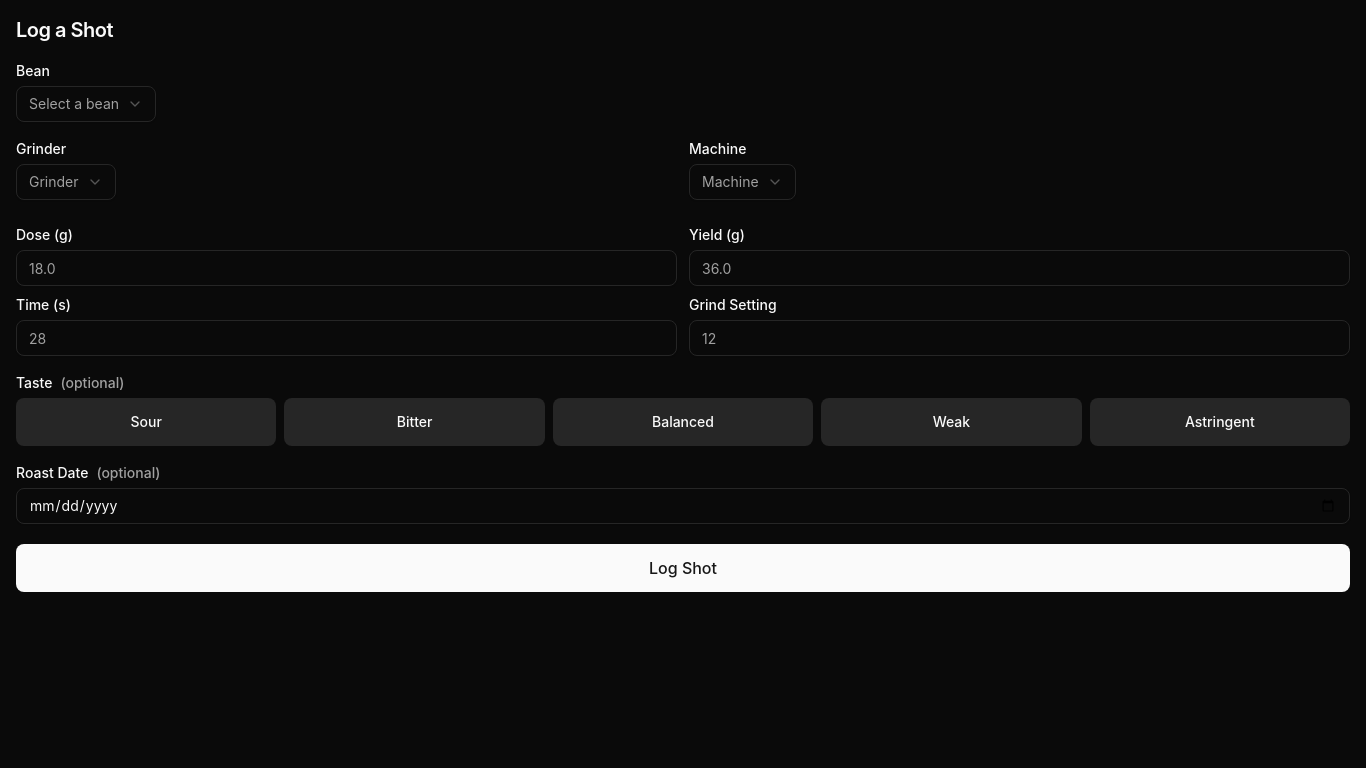
Test case: LogShot › shows validation error when submitting empty form
Click the button "Log Shot": (683, 568) [16, 544, 1350, 592]
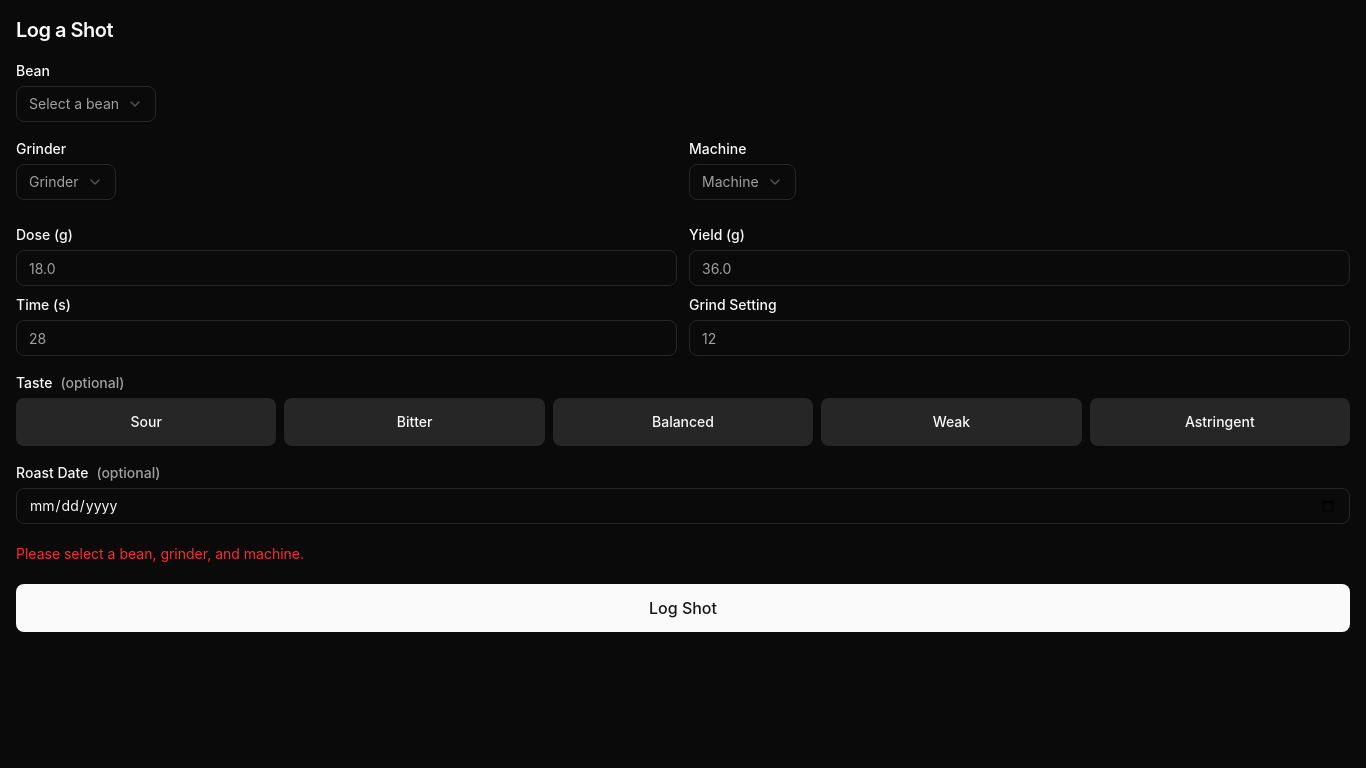
expect the text "Please select a bean, grinder, and machine." is shown: met, box [16, 545, 304, 562]
